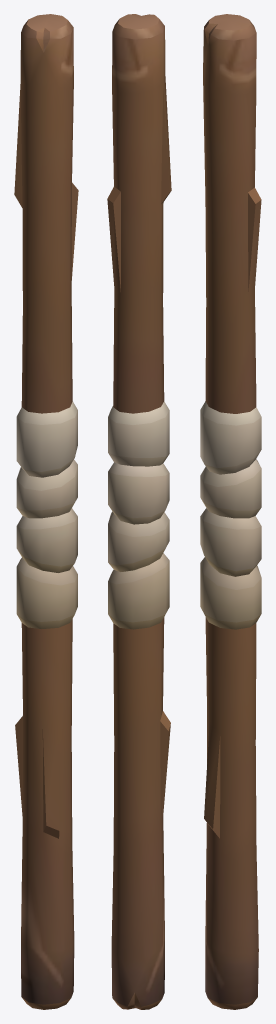
File: wpn_staff_A.glb
3 views of the same model, side by side, from view 1: azimuth 30°, elevation 25°; view 2: azimuth 210°, elevation 25°; view 3: azimuth 330°, elevation 25° (orthographic).
Visible parts, largest first — view 1: staff_A; view 2: staff_A; view 3: staff_A.
Part boxes in pixels (left/top/right/bottom): staff_A: left=14, top=14, right=78, bottom=1009; staff_A: left=107, top=14, right=171, bottom=1009; staff_A: left=200, top=14, right=261, bottom=1009.
Bounding box in the file's own units: 0.1249 × 2.15 × 0.1115.
Materials: 1 (1 with a texture image).
